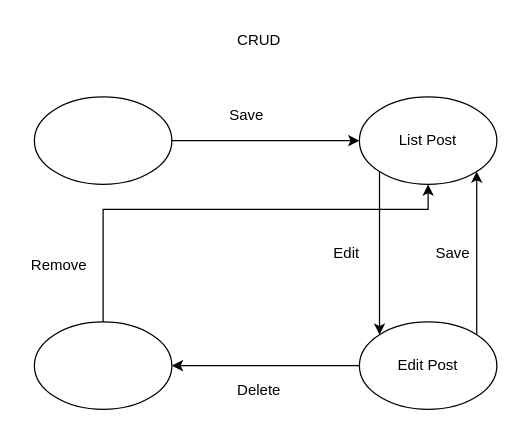
The diagram is 519 pixels wide and 431 high, and some of its shapes have lost their labels. Here are the shapes that lost their labels. From the top down, the centre of each, then its label:
At (x=102, y=140): "Create Post".
At (x=102, y=365): "Delete Post".
